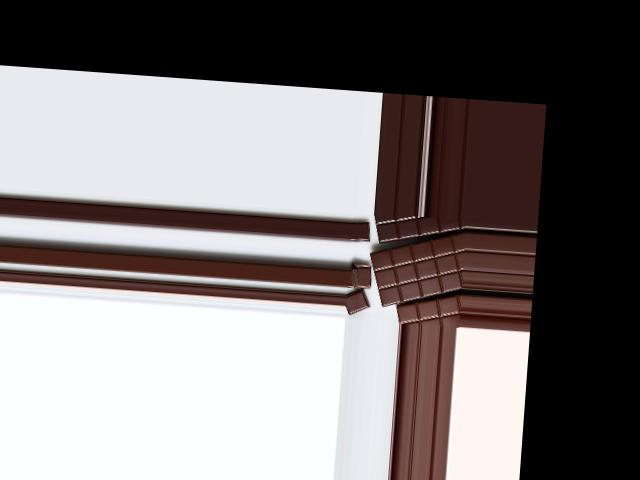chocolate: (367, 228, 467, 314)
